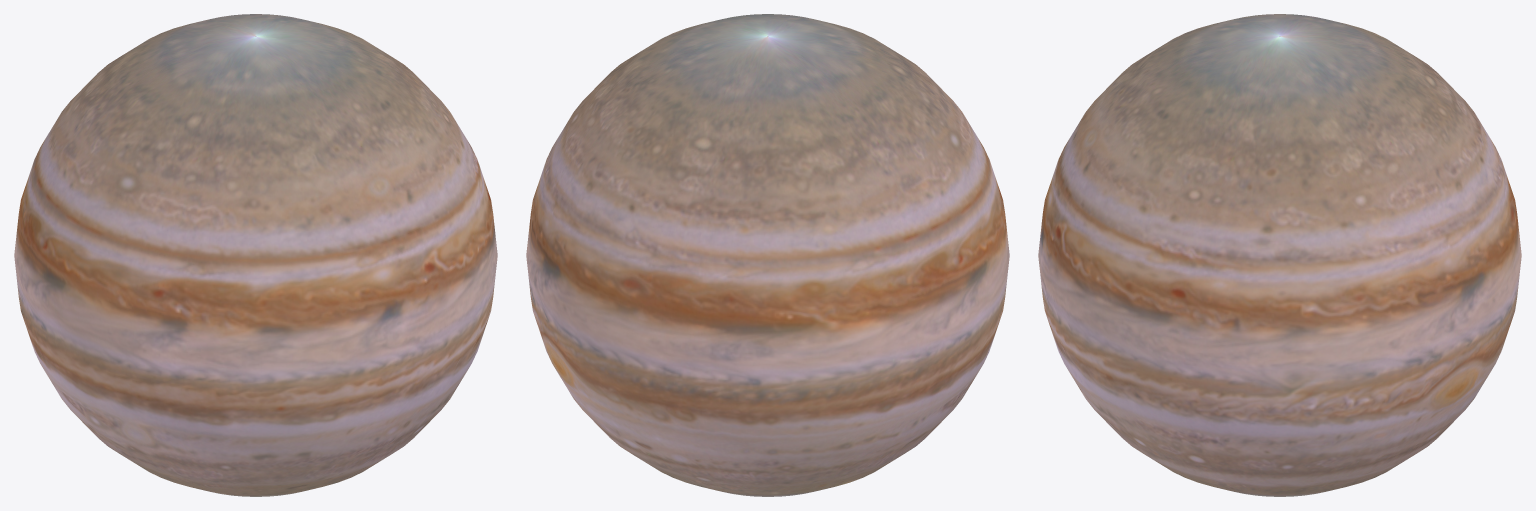
File: jupiter.glb
The picture shows the model from 3 angles, left to right: view 1: azimuth 30°, elevation 25°; view 2: azimuth 150°, elevation 25°; view 3: azimuth 270°, elevation 25°; orthographic projection.
Parts seen in each view (by area): view 1: Jupiter; view 2: Jupiter; view 3: Jupiter.
Part boxes in pixels (x1,y1,x2,y2): Jupiter: (14, 14, 497, 496); Jupiter: (526, 14, 1009, 496); Jupiter: (1038, 14, 1521, 496).
Size of the model in its own units: 699 by 699 by 699.
1 material, 1 textured.
